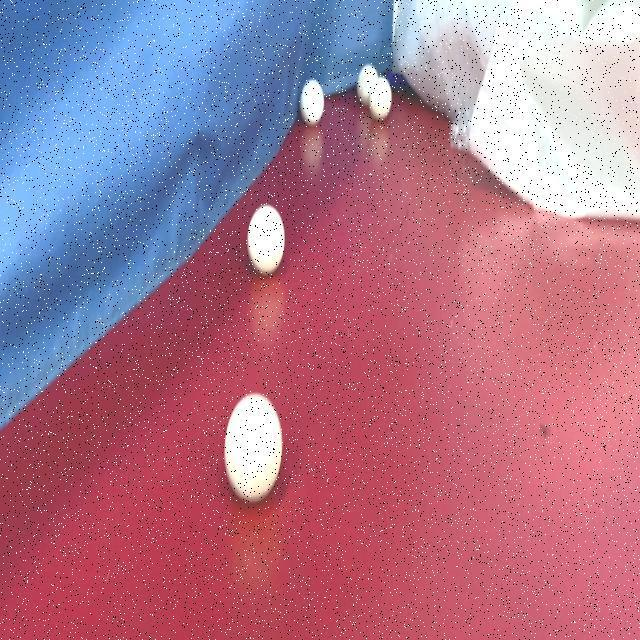ping-pong-ball: (220, 389, 288, 505), (244, 200, 289, 278), (298, 76, 326, 126), (366, 72, 394, 122)
